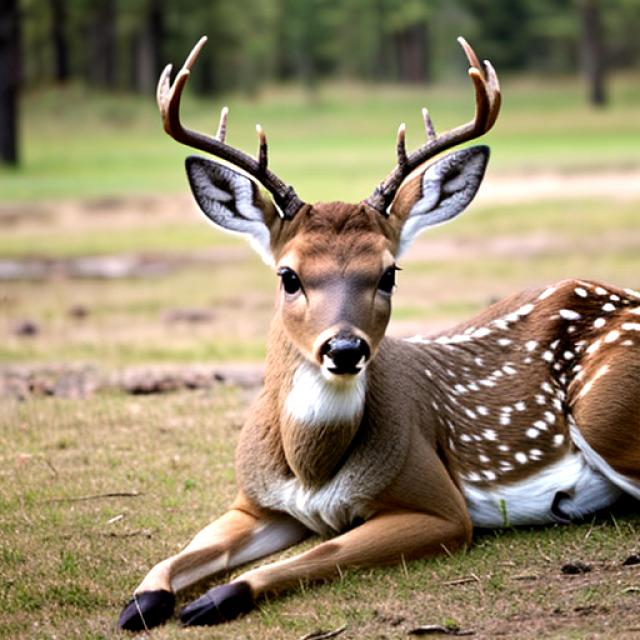deer: (124, 24, 526, 438)
